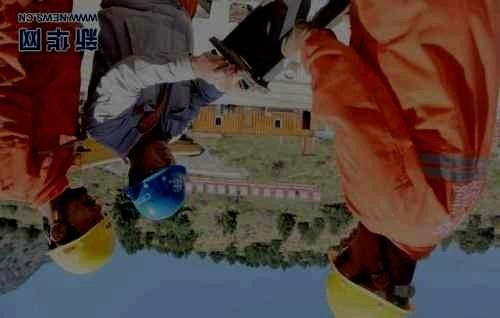helmet: (323, 220, 417, 318), (41, 185, 117, 275), (126, 138, 187, 220)
